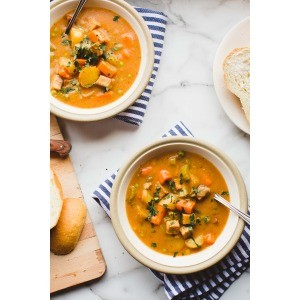tofu_brain food: (132, 149, 225, 259), (57, 13, 138, 115)
